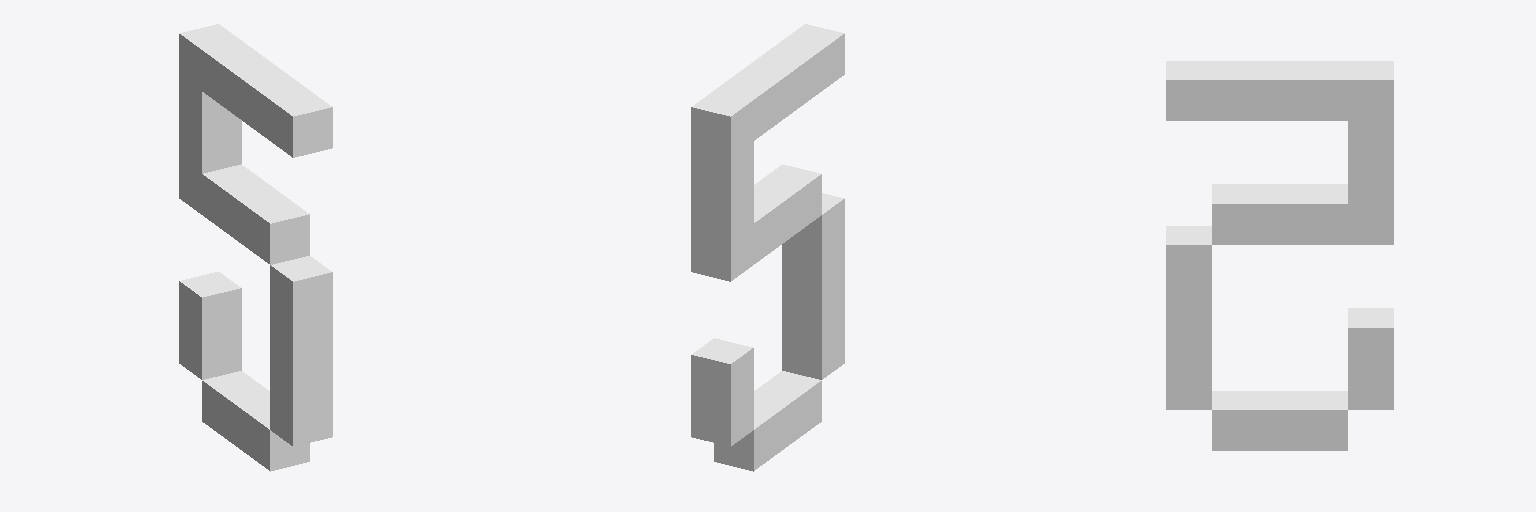
The model's file is dig_5.obj.
The picture shows the model from 3 angles: view 1: azimuth 30°, elevation 25°; view 2: azimuth 150°, elevation 25°; view 3: azimuth 270°, elevation 25°; orthographic projection.
Parts seen in each view (by area): view 1: object 1; view 2: object 1; view 3: object 1.
Boxes of the visible parts, x1=… form: object 1: x1=179, y1=24, x2=332, y2=471; object 1: x1=691, y1=24, x2=844, y2=471; object 1: x1=1166, y1=61, x2=1393, y2=450.
Bounding box in the file's own units: 0.1 × 0.9 × 0.5.